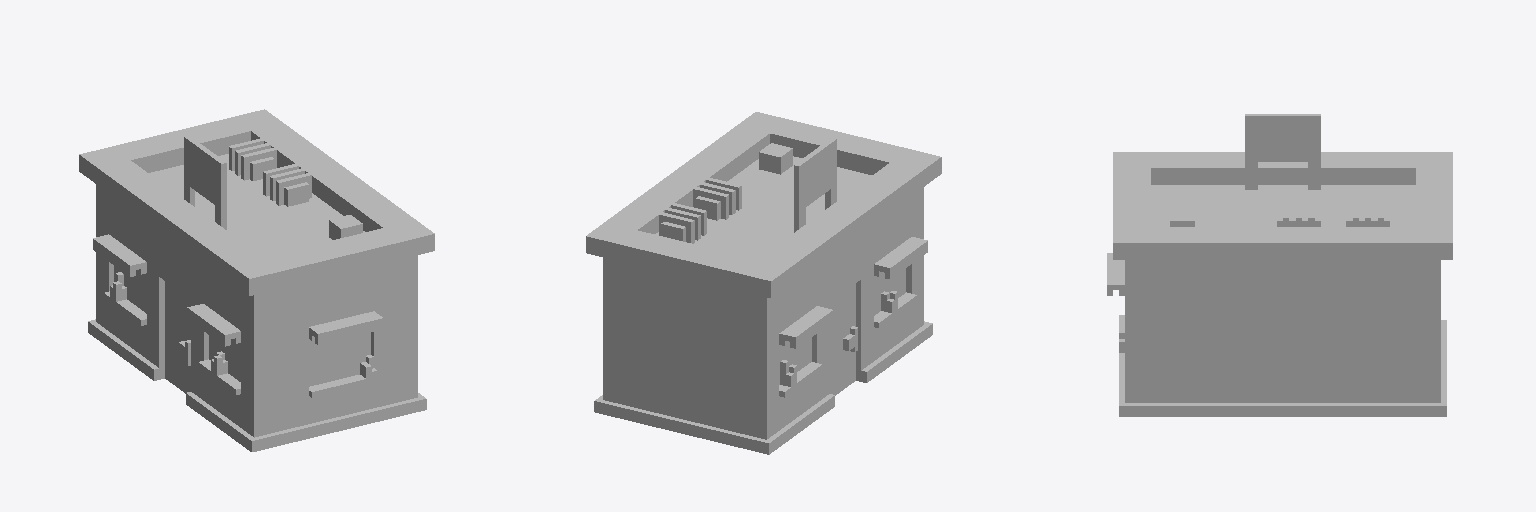
Rendered from Market.obj.
3 renders of one model, left to right at view 1: azimuth 30°, elevation 25°; view 2: azimuth 150°, elevation 25°; view 3: azimuth 270°, elevation 25°, orthographic.
Visible parts, largest first — view 1: object 1; view 2: object 1; view 3: object 1.
Boxes of the visible parts, x1=… form: object 1: x1=79, y1=109, x2=434, y2=451; object 1: x1=586, y1=112, x2=941, y2=454; object 1: x1=1107, y1=114, x2=1452, y2=416.
Bounding box in the file's own units: 3.5 × 4.1 × 5.5.